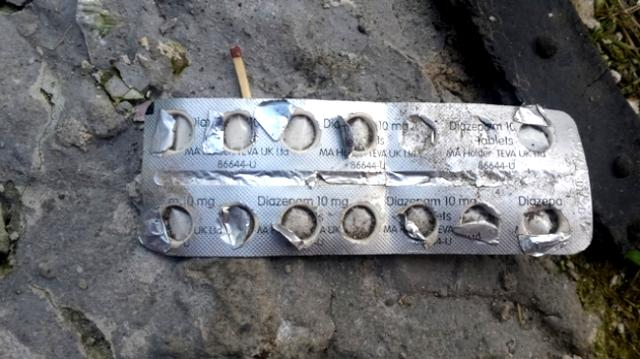medicine: (135, 77, 608, 272)
